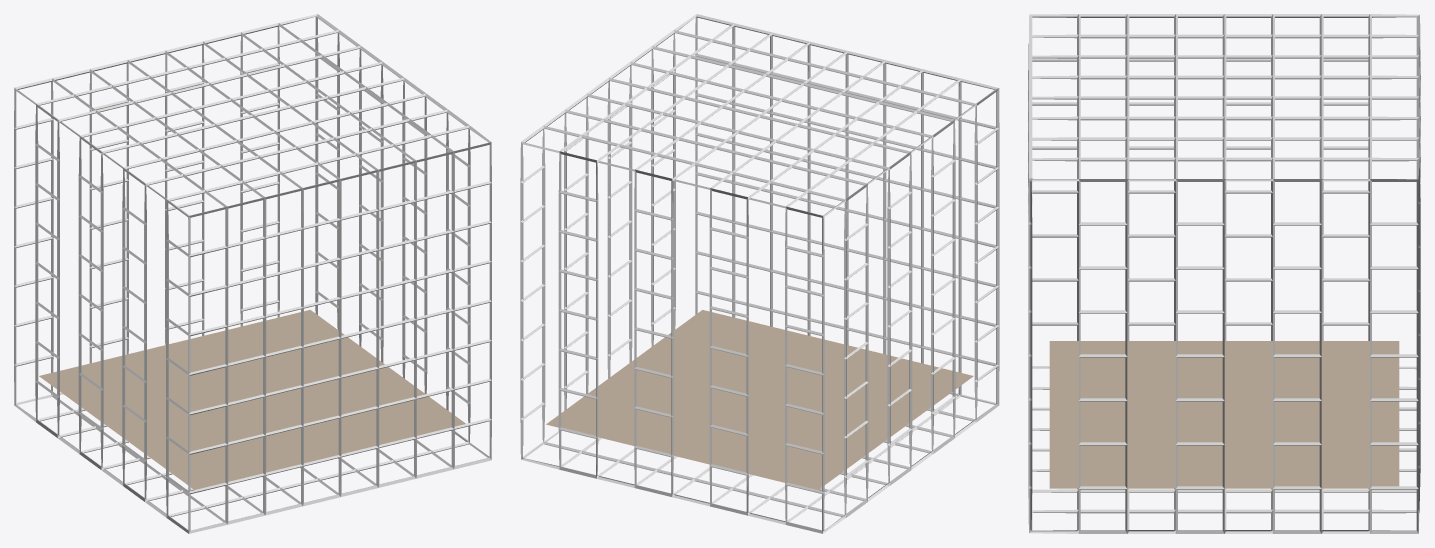
The model's file is room-1.glb.
3 views of the same model, side by side, from view 1: azimuth 30°, elevation 25°; view 2: azimuth 150°, elevation 25°; view 3: azimuth 270°, elevation 25° (orthographic). The views are drawn at different scales.
Parts seen in each view (by area): view 1: Cube, floor; view 2: Cube, floor; view 3: floor, Cube.
Part boxes in pixels (bbox=[...]): Cube: bbox=[14, 14, 491, 533]; floor: bbox=[39, 309, 465, 489]; Cube: bbox=[520, 14, 999, 533]; floor: bbox=[546, 310, 973, 489]; floor: bbox=[1049, 341, 1399, 488]; Cube: bbox=[1028, 14, 1420, 533].
Size of the model in its own units: 10.1 by 10.1 by 10.1.
